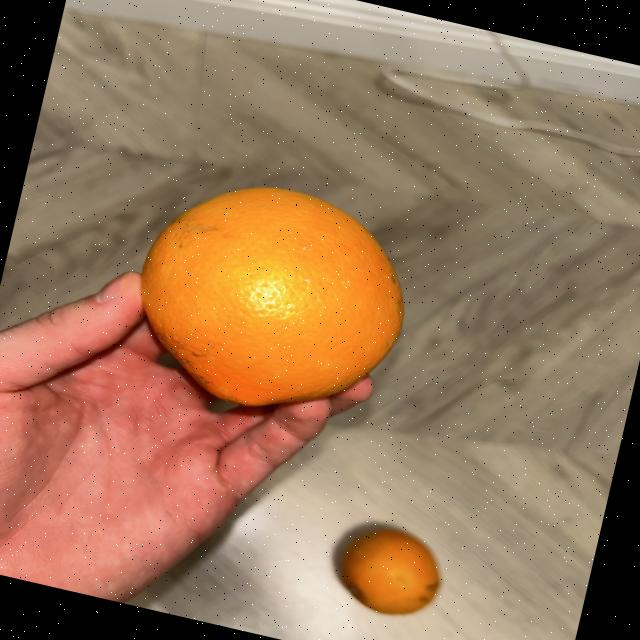orange: (139, 187, 403, 409), (332, 524, 441, 618)
